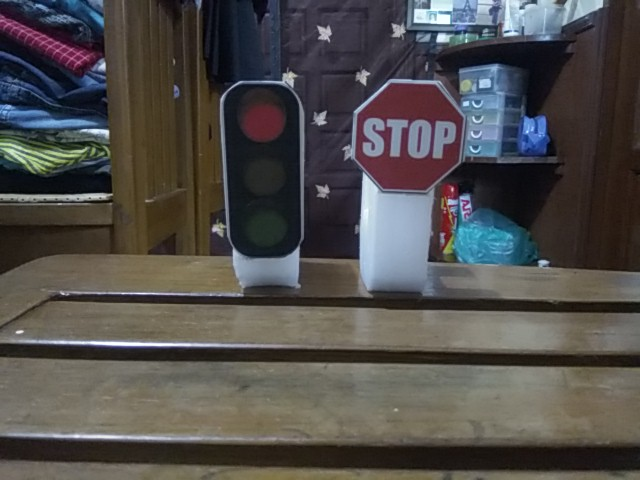Red Traffic Light: (220, 80, 306, 260)
Stop Sign: (351, 78, 468, 195)
